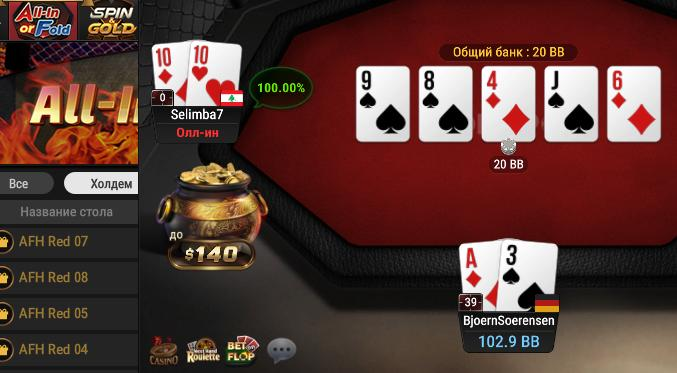10d: (150, 44, 187, 104)
10h: (186, 40, 241, 106)
3s: (500, 238, 558, 310)
4d: (483, 67, 535, 142)
6d: (608, 66, 660, 141)
8s: (419, 66, 473, 140)
9s: (358, 68, 410, 142)
Ad: (458, 238, 499, 313)
Js: (546, 67, 597, 139)
